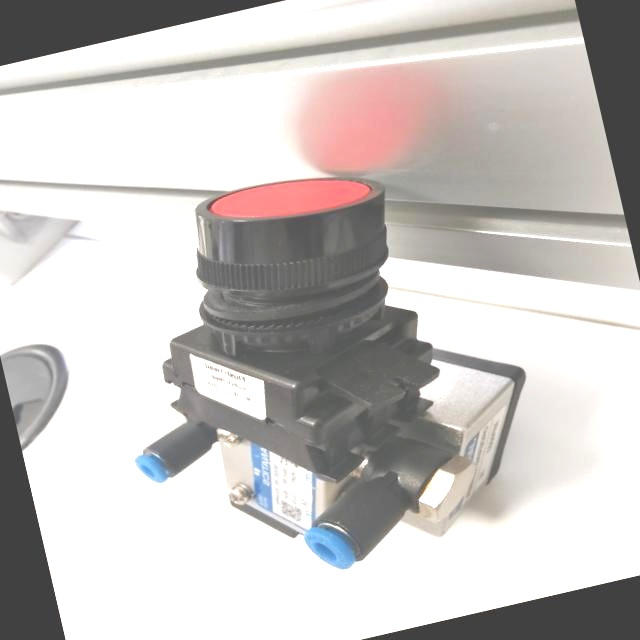push button: (79, 134, 558, 610)
